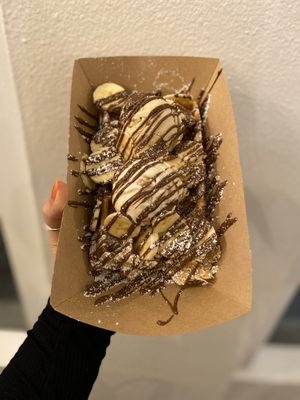sushi: (28, 60, 238, 383), (47, 77, 231, 318)
